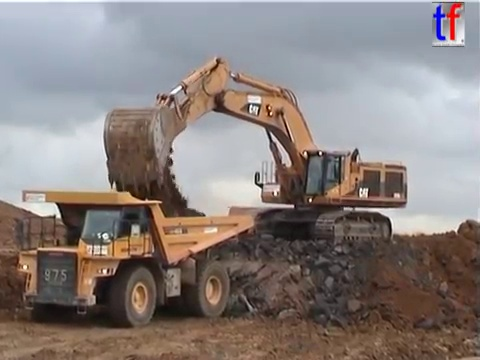excavator: (100, 53, 410, 249)
truck: (13, 187, 256, 328), (224, 192, 358, 241)
